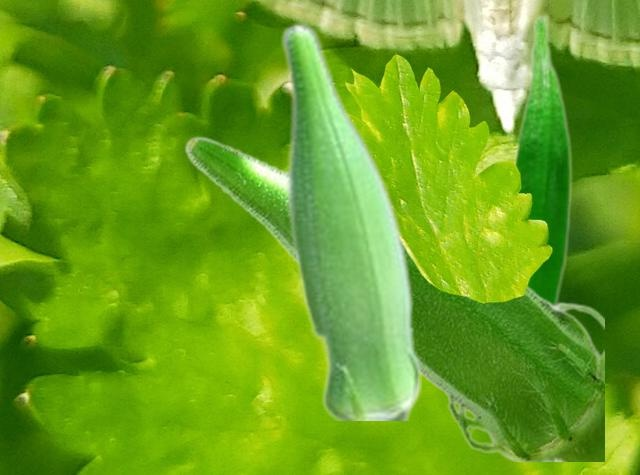okra: (183, 135, 603, 460), (279, 22, 420, 419), (510, 12, 573, 300)
